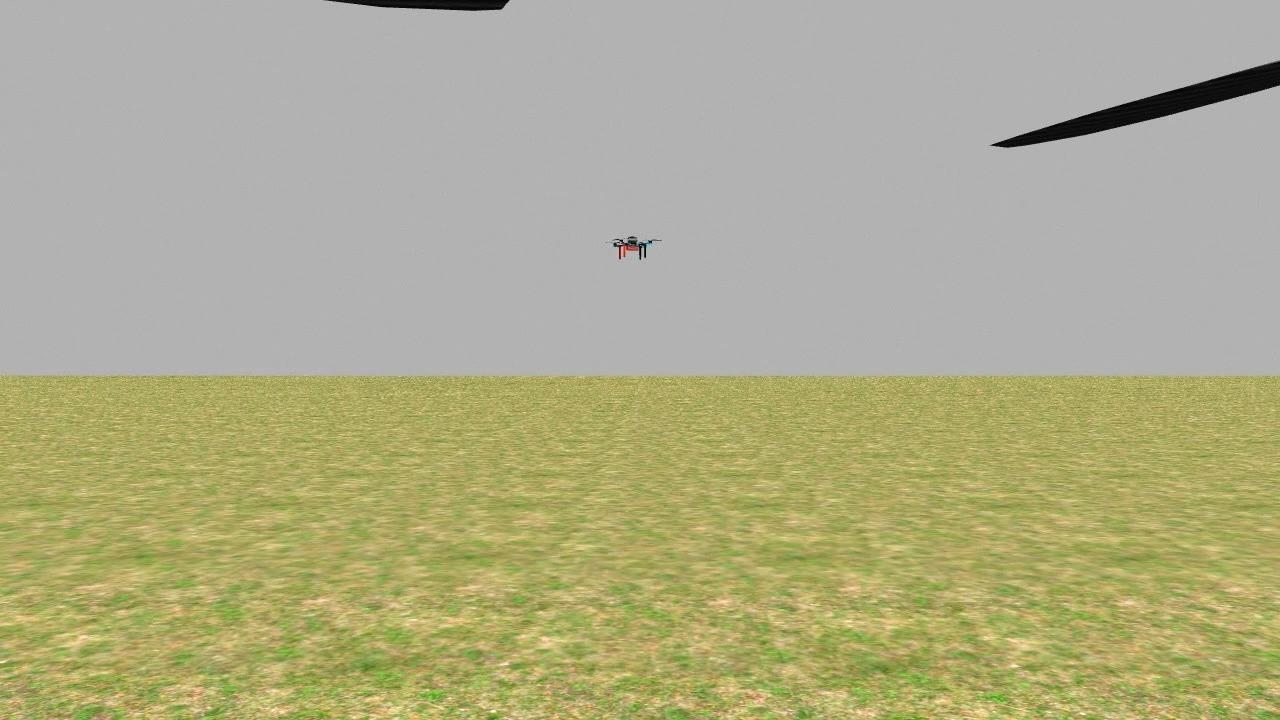UAV: (594, 221, 670, 271)
